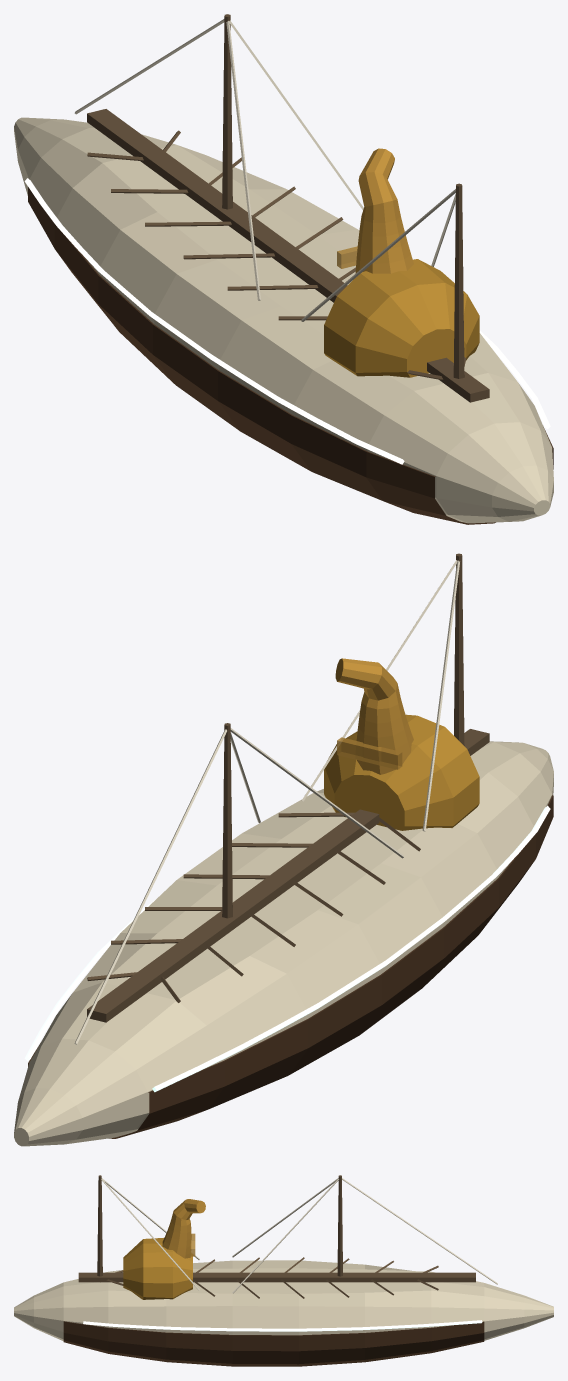
Rendered from hauler_reedfolk.glb.
3 views of the same model, one above another, from view 1: azimuth 30°, elevation 25°; view 2: azimuth 150°, elevation 25°; view 3: azimuth 270°, elevation 25° (orthographic). The views are drawn at different scales.
Parts seen in each view (by area): view 1: hauler_reedfolk_body; view 2: hauler_reedfolk_body; view 3: hauler_reedfolk_body.
Boxes of the visible parts, x1,y1,x2,y2 form: hauler_reedfolk_body: [14, 14, 553, 524]; hauler_reedfolk_body: [14, 553, 553, 1146]; hauler_reedfolk_body: [14, 1175, 553, 1366].
Bounding box in the file's own units: 8.7 × 12.15 × 32.6.
